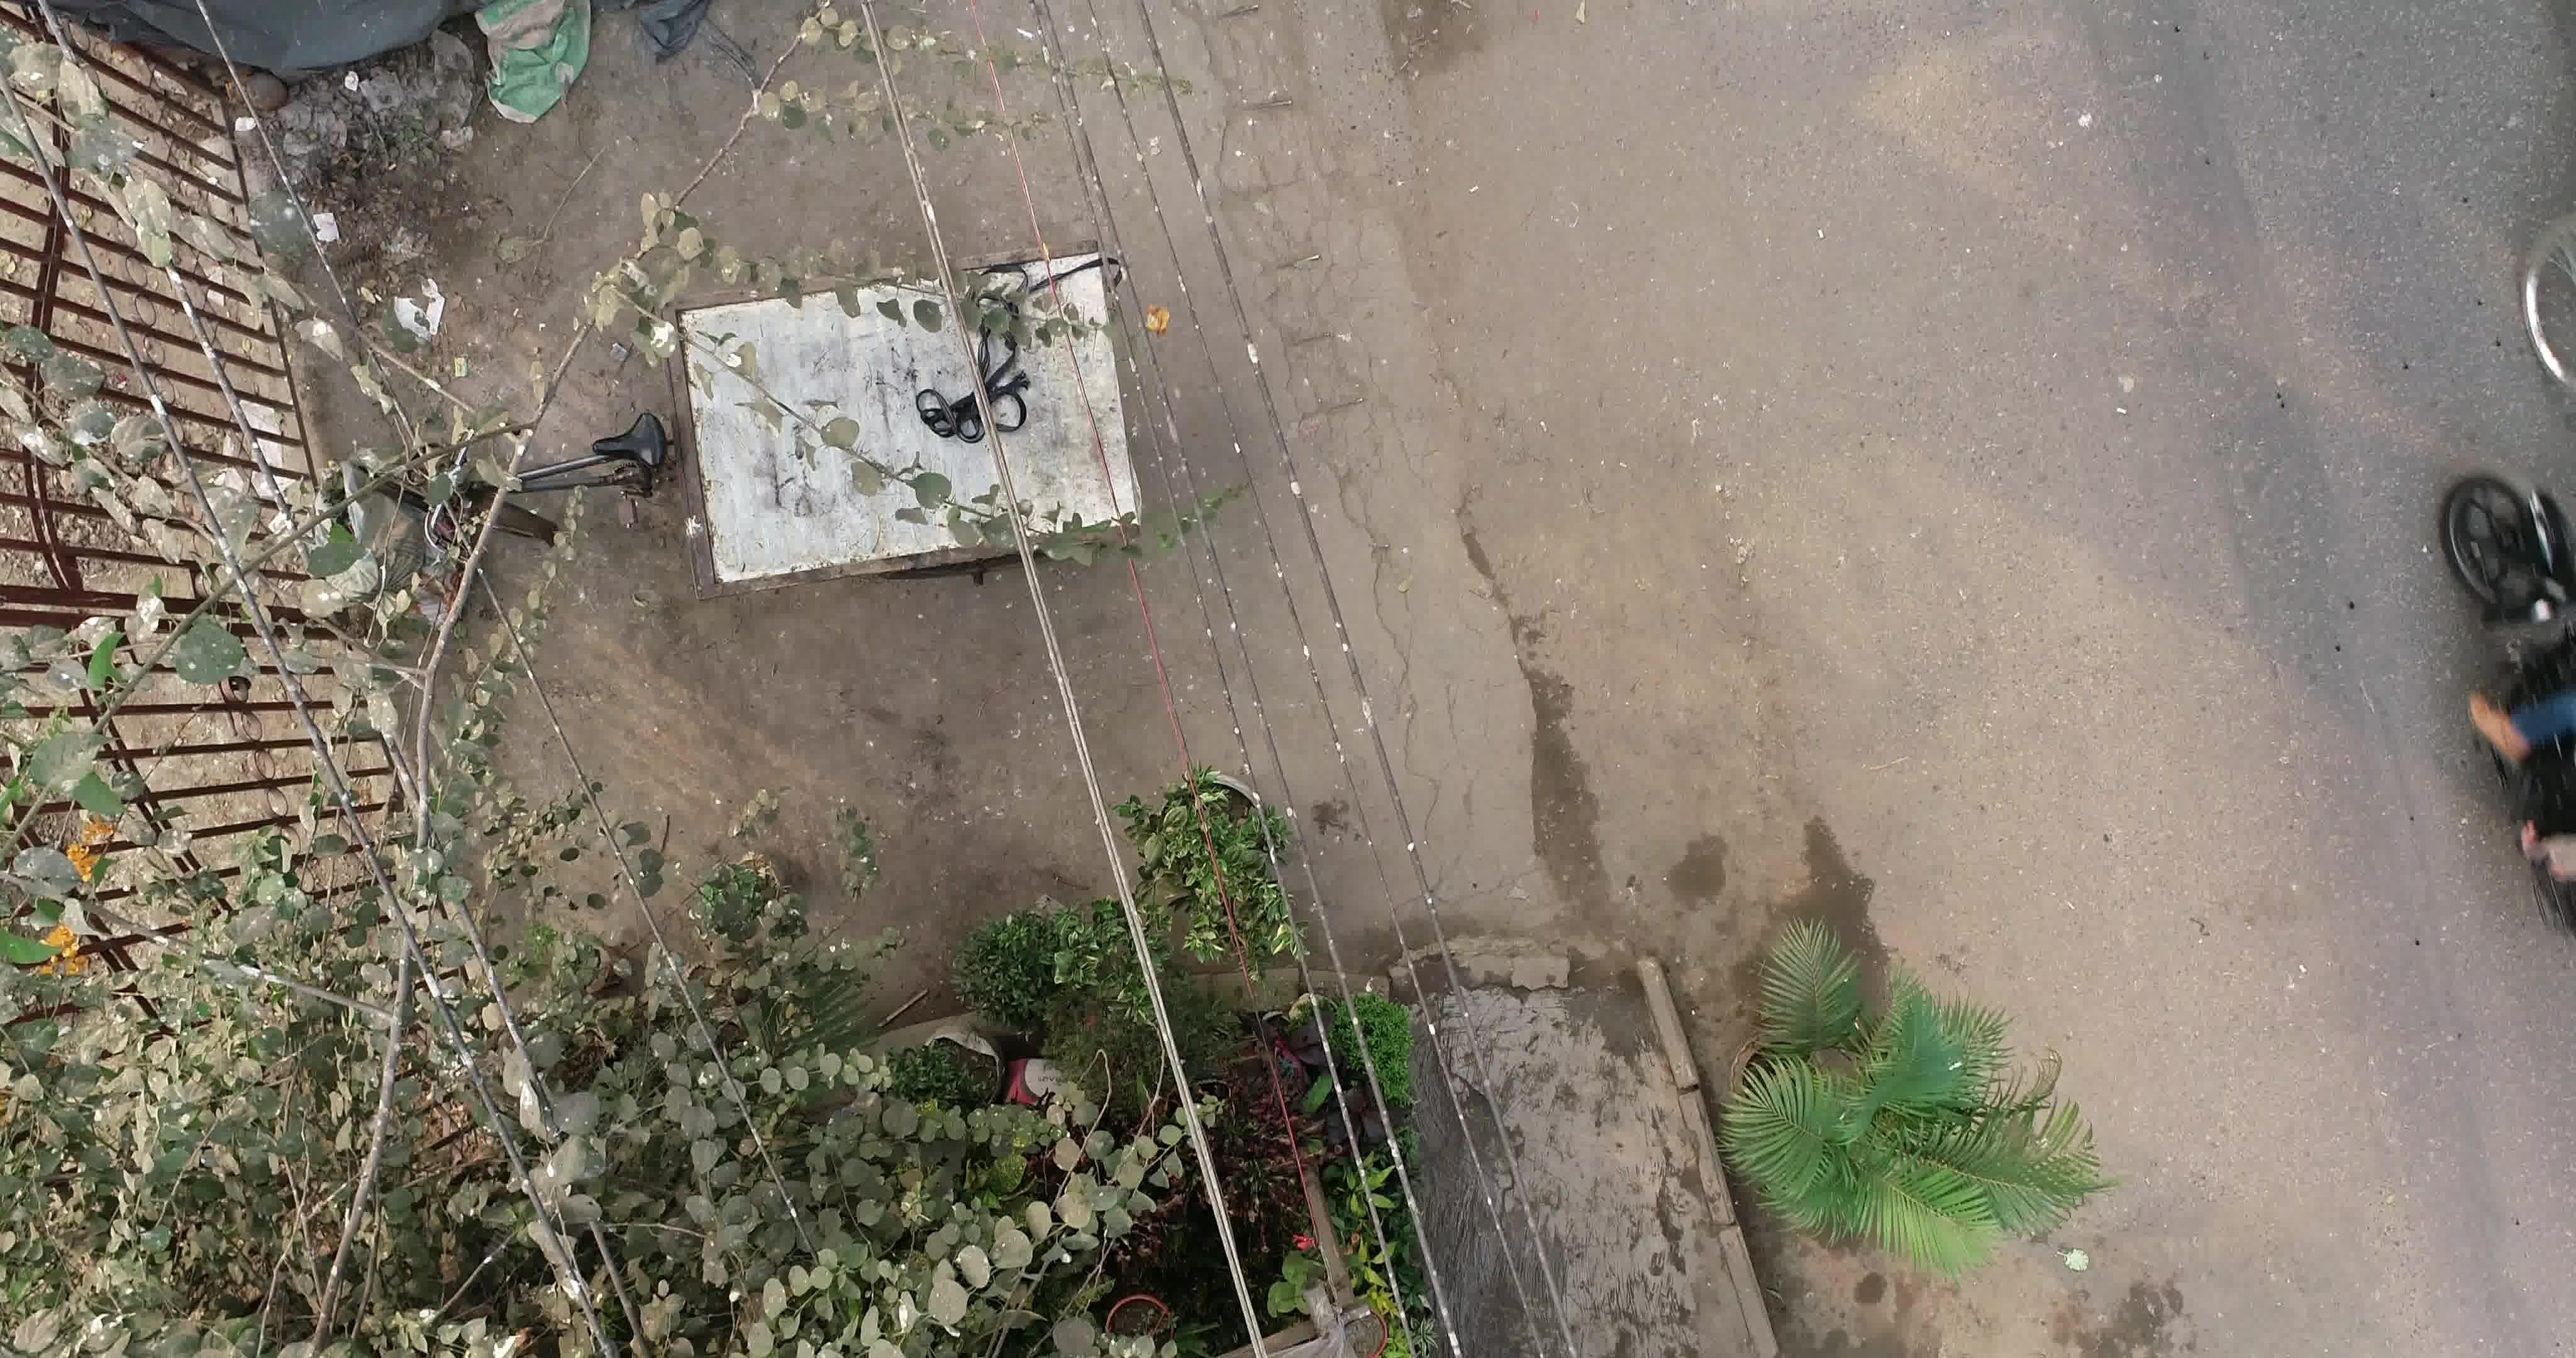manual-van: (361, 230, 1145, 584)
motor: (2435, 457, 2576, 939)
